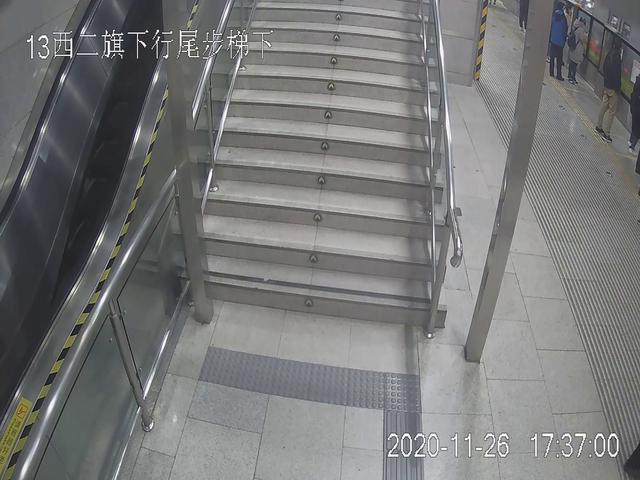person: (585, 30, 634, 146)
